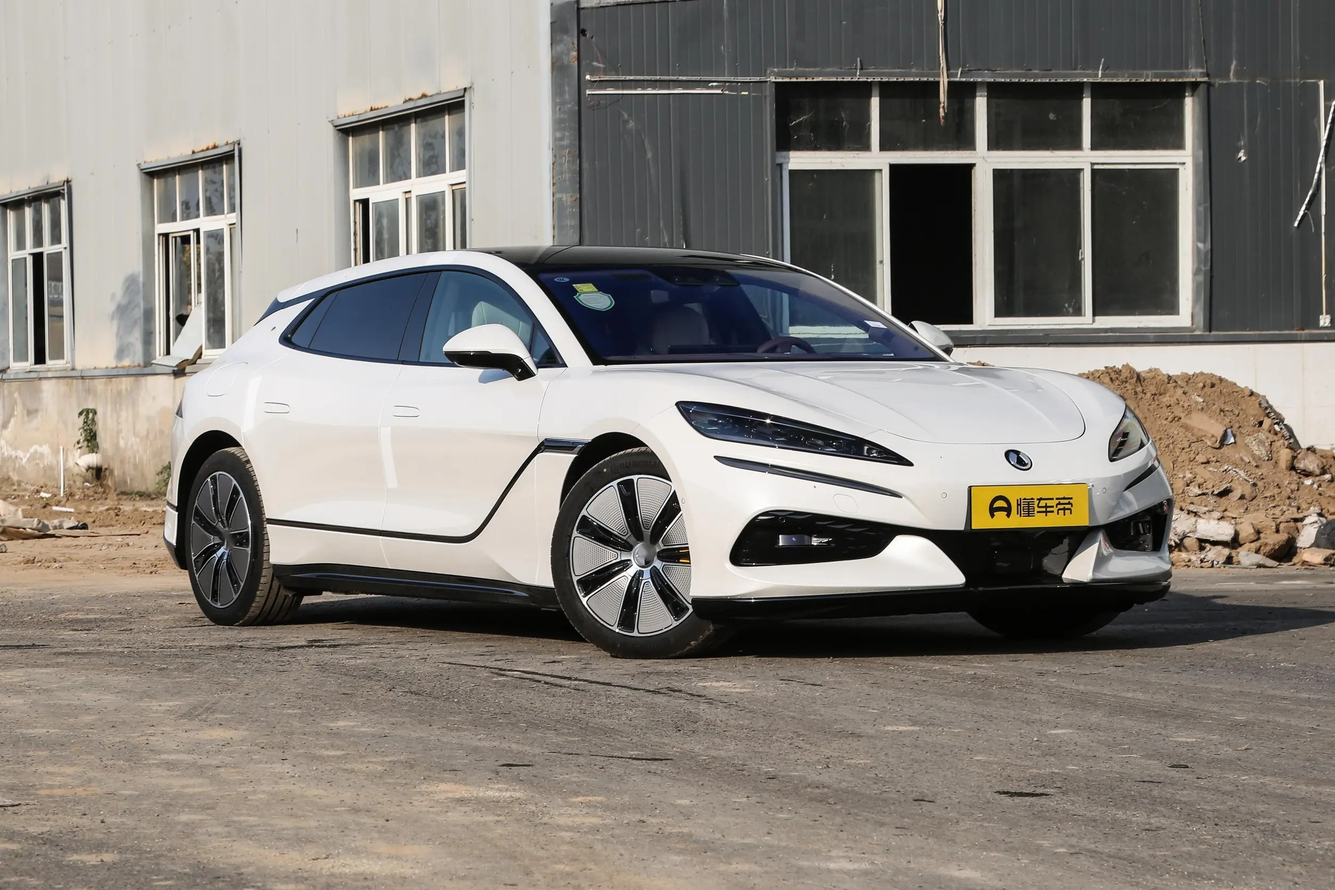DENZA: (1009, 451, 1031, 468)
